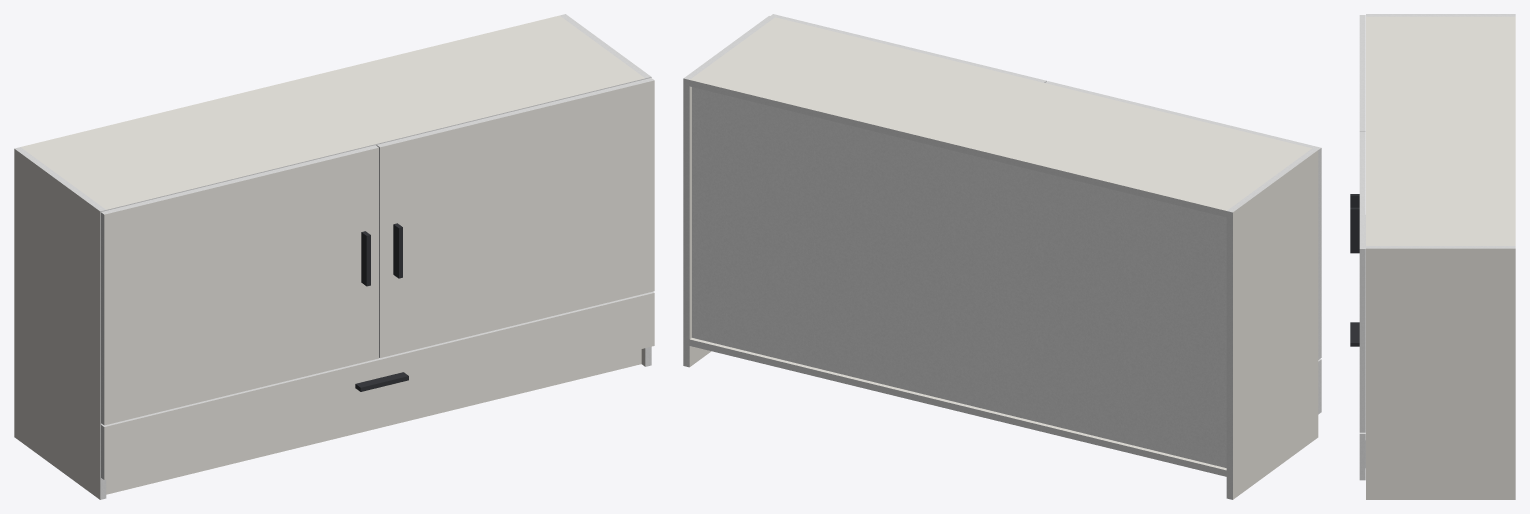
Rendered from LIT-SDB-std.glb.
3 renders of one model, left to right at view 1: azimuth 30°, elevation 25°; view 2: azimuth 150°, elevation 25°; view 3: azimuth 270°, elevation 25°, orthographic. The views are drawn at different scales.
Visible parts, largest first — view 1: door-l:pbr, door-r:pbr, top:pbr, d1-front:pbr, side-l:pbr, plinth:pbr, pull, d1-front:sheet:eyJtIjoibWRmIiwic2lkZSI6ImVkZ2UtbG9uZyIsInNlZ, door-l:sheet:eyJtIjoibWRmIiwic2lkZSI6ImVkZ2UtbG9uZyIsInNlZWQ, door-r:sheet:eyJtIjoibWRmIiwic2lkZSI6ImVkZ2UtbG9uZyIsInNlZWQ, top:sheet:eyJtIjoibWRmIiwic2lkZSI6ImVkZ2UtbG9uZyIsInNlZWQiOj, door-l:sheet:eyJtIjoibWRmIiwic2lkZSI6ImVkZ2UtZW5kIiwic2VlZCI; view 2: back:sheet:eyJtIjoibWRmIiwic2lkZSI6ImZhY2UiLCJzZWVkIjoyLCJ0a, top:pbr, side-l:pbr, bottom:sheet:eyJtIjoibWRmIiwic2lkZSI6ImVkZ2UtbG9uZyIsInNlZWQ, top:sheet:eyJtIjoibWRmIiwic2lkZSI6ImVkZ2UtbG9uZyIsInNlZWQiOj, side-r:sheet:eyJtIjoibWRmIiwic2lkZSI6ImVkZ2UtbG9uZyIsInNlZWQ, side-l:sheet:eyJtIjoibWRmIiwic2lkZSI6ImVkZ2UtbG9uZyIsInNlZWQ, bottom:pbr, side-r:pbr, door-l:sheet:eyJtIjoibWRmIiwic2lkZSI6ImVkZ2UtbG9uZyIsInNlZWQ, door-r:sheet:eyJtIjoibWRmIiwic2lkZSI6ImVkZ2UtbG9uZyIsInNlZWQ, door-l:sheet:eyJtIjoibWRmIiwic2lkZSI6ImVkZ2UtZW5kIiwic2VlZCI; view 3: side-r:pbr, top:pbr, door-r:sheet:eyJtIjoibWRmIiwic2lkZSI6ImVkZ2UtZW5kIiwic2VlZCI, pull, door-l:sheet:eyJtIjoibWRmIiwic2lkZSI6ImVkZ2UtbG9uZyIsInNlZWQ, door-r:sheet:eyJtIjoibWRmIiwic2lkZSI6ImVkZ2UtbG9uZyIsInNlZWQ, side-l:sheet:eyJtIjoibWRmIiwic2lkZSI6ImVkZ2UtZW5kIiwic2VlZCI, side-r:sheet:eyJtIjoibWRmIiwic2lkZSI6ImVkZ2UtZW5kIiwic2VlZCI, d1-front:sheet:eyJtIjoibWRmIiwic2lkZSI6ImVkZ2UtZW5kIiwic2VlZ, d1-box-front:sheet:eyJtIjoibWRmIiwic2lkZSI6ImVkZ2UtbG9uZyIsI.
Boxes of the visible parts, box(x1,y1,x2,y2) form: door-l:pbr: box(104, 147, 378, 425); door-r:pbr: box(380, 80, 654, 357); top:pbr: box(21, 15, 644, 209); d1-front:pbr: box(104, 293, 654, 479); side-l:pbr: box(14, 149, 100, 499); plinth:pbr: box(106, 349, 641, 494); pull: box(355, 223, 408, 391); d1-front:sheet:eyJtIjoibWRmIiwic2lkZSI6ImVkZ2UtbG9uZyIsInNlZ: box(101, 291, 654, 426); door-l:sheet:eyJtIjoibWRmIiwic2lkZSI6ImVkZ2UtbG9uZyIsInNlZWQ: box(101, 145, 378, 214); door-r:sheet:eyJtIjoibWRmIiwic2lkZSI6ImVkZ2UtbG9uZyIsInNlZWQ: box(377, 78, 654, 147); top:sheet:eyJtIjoibWRmIiwic2lkZSI6ImVkZ2UtbG9uZyIsInNlZWQiOj: box(106, 78, 645, 210); door-l:sheet:eyJtIjoibWRmIiwic2lkZSI6ImVkZ2UtZW5kIiwic2VlZCI: box(101, 212, 104, 424); back:sheet:eyJtIjoibWRmIiwic2lkZSI6ImZhY2UiLCJzZWVkIjoyLCJ0a: box(692, 87, 1226, 467); top:pbr: box(690, 17, 1311, 210); side-l:pbr: box(1233, 150, 1318, 499); bottom:sheet:eyJtIjoibWRmIiwic2lkZSI6ImVkZ2UtbG9uZyIsInNlZWQ: box(689, 339, 1226, 476); top:sheet:eyJtIjoibWRmIiwic2lkZSI6ImVkZ2UtbG9uZyIsInNlZWQiOj: box(689, 80, 1226, 217); side-r:sheet:eyJtIjoibWRmIiwic2lkZSI6ImVkZ2UtbG9uZyIsInNlZWQ: box(683, 78, 689, 367); side-l:sheet:eyJtIjoibWRmIiwic2lkZSI6ImVkZ2UtbG9uZyIsInNlZWQ: box(1226, 211, 1232, 499); bottom:pbr: box(690, 338, 1226, 470); side-r:pbr: box(689, 86, 711, 366); door-l:sheet:eyJtIjoibWRmIiwic2lkZSI6ImVkZ2UtbG9uZyIsInNlZWQ: box(1045, 81, 1321, 149); door-r:sheet:eyJtIjoibWRmIiwic2lkZSI6ImVkZ2UtbG9uZyIsInNlZWQ: box(771, 14, 1046, 82); door-l:sheet:eyJtIjoibWRmIiwic2lkZSI6ImVkZ2UtZW5kIiwic2VlZCI: box(1318, 148, 1321, 359); side-r:pbr: box(1366, 248, 1515, 499); top:pbr: box(1366, 16, 1515, 245); door-r:sheet:eyJtIjoibWRmIiwic2lkZSI6ImVkZ2UtZW5kIiwic2VlZCI: box(1359, 249, 1365, 432); pull: box(1350, 194, 1359, 346); door-l:sheet:eyJtIjoibWRmIiwic2lkZSI6ImVkZ2UtbG9uZyIsInNlZWQ: box(1359, 15, 1365, 131); door-r:sheet:eyJtIjoibWRmIiwic2lkZSI6ImVkZ2UtbG9uZyIsInNlZWQ: box(1359, 132, 1365, 248); side-l:sheet:eyJtIjoibWRmIiwic2lkZSI6ImVkZ2UtZW5kIiwic2VlZCI: box(1366, 14, 1515, 16); side-r:sheet:eyJtIjoibWRmIiwic2lkZSI6ImVkZ2UtZW5kIiwic2VlZCI: box(1366, 246, 1515, 248); d1-front:sheet:eyJtIjoibWRmIiwic2lkZSI6ImVkZ2UtZW5kIiwic2VlZ: box(1359, 434, 1365, 480); d1-box-front:sheet:eyJtIjoibWRmIiwic2lkZSI6ImVkZ2UtbG9uZyIsI: box(1365, 217, 1365, 437).
Size of the model in its own units: 1.6 by 0.8 by 0.4769.
55 materials, 42 textured.
